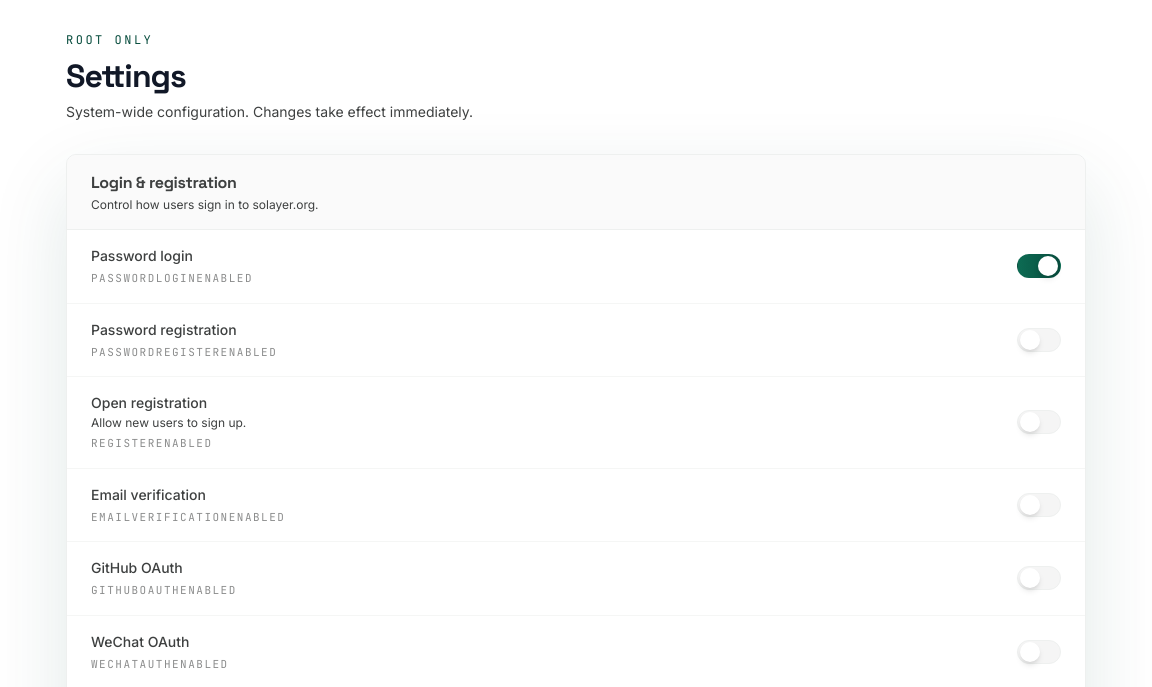
Test case: /console/settings option save errors › clears the error after a subsequent successful save
The width and height of the screenshot is (1152, 687).
What coordinates should you click on to do the following:
click the switch in the row of "PasswordLoginEnabled"
I would click on:
 (1039, 266)
Its box is [1017, 254, 1061, 278].
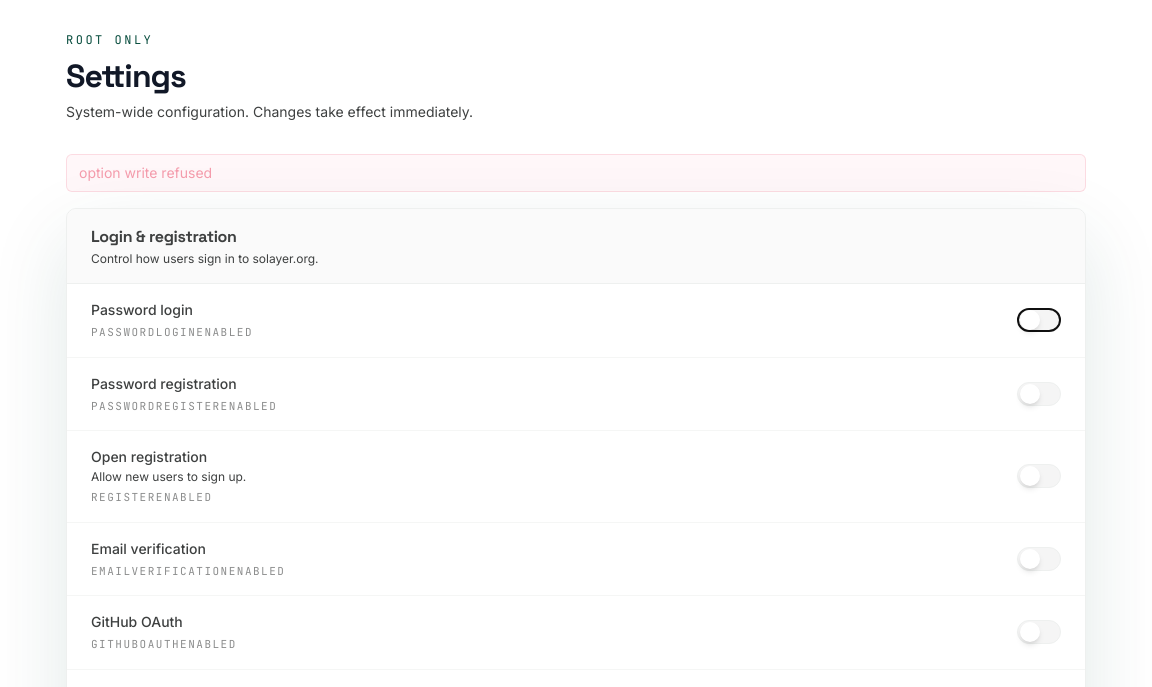
expect the text "option write refused" is shown: met, box [66, 154, 1086, 192]
What coordinates should you click on to do the following:
click the switch in the row of "PasswordLoginEnabled"
I would click on:
 (1039, 320)
Its box is [1017, 308, 1061, 332].
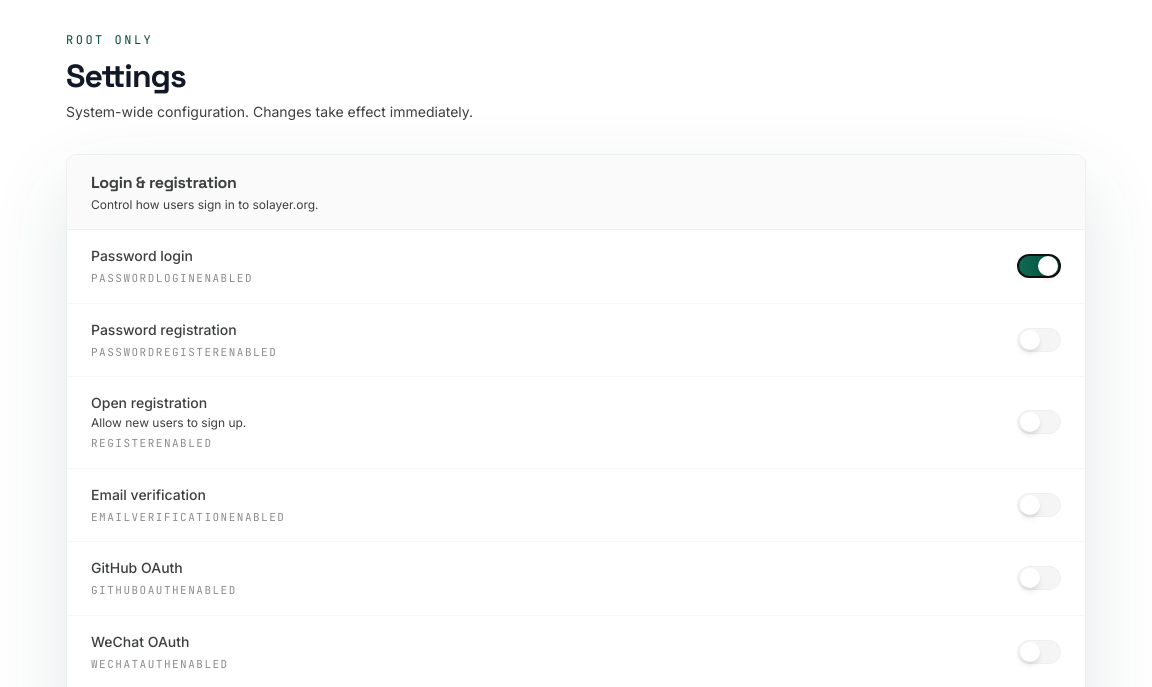
expect the text "option write refused" is gone: met
